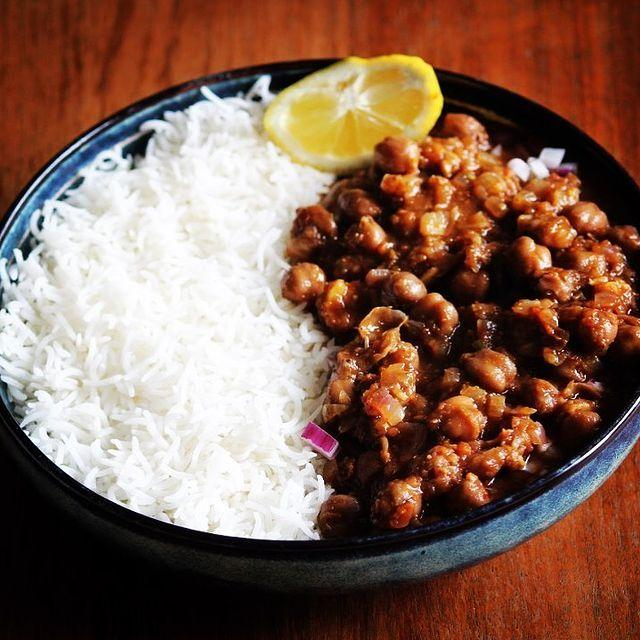Chole: (330, 132, 640, 530)
